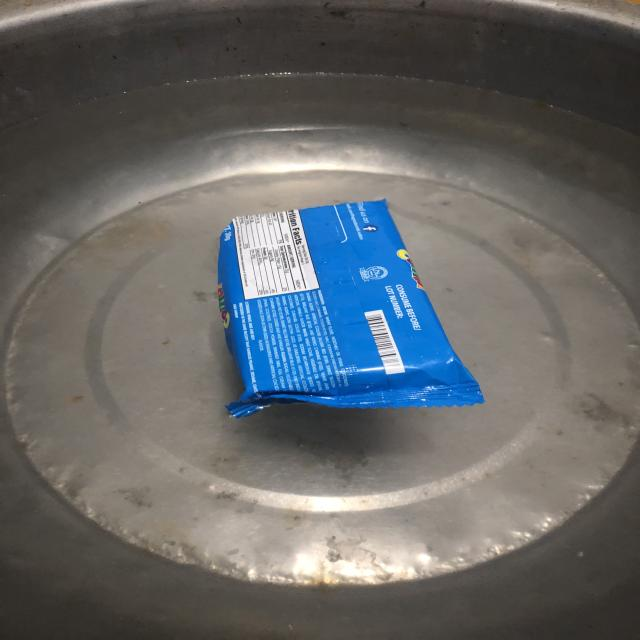Plastic Wrapper: (218, 199, 484, 417)
